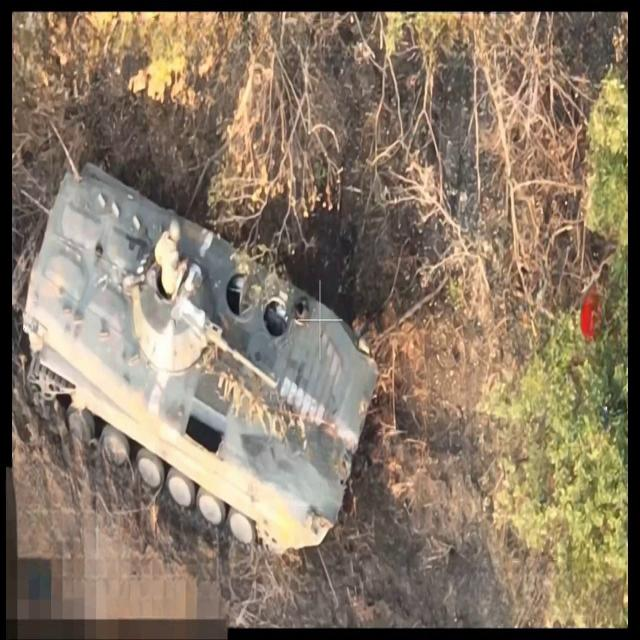AIFV: (23, 157, 379, 563)
